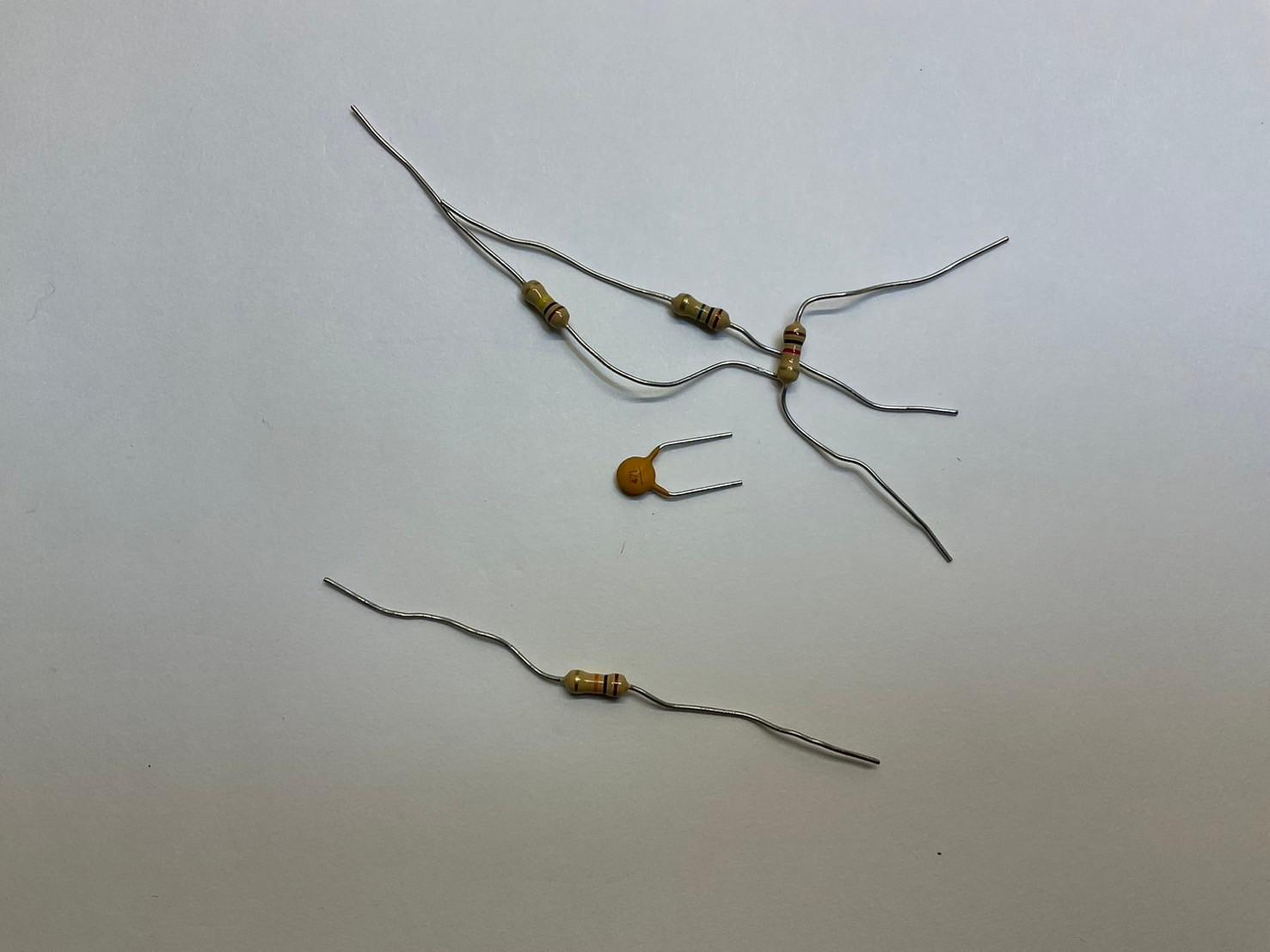resistor: (516, 277, 569, 332), (560, 668, 632, 705), (671, 291, 729, 333), (776, 322, 806, 387)
